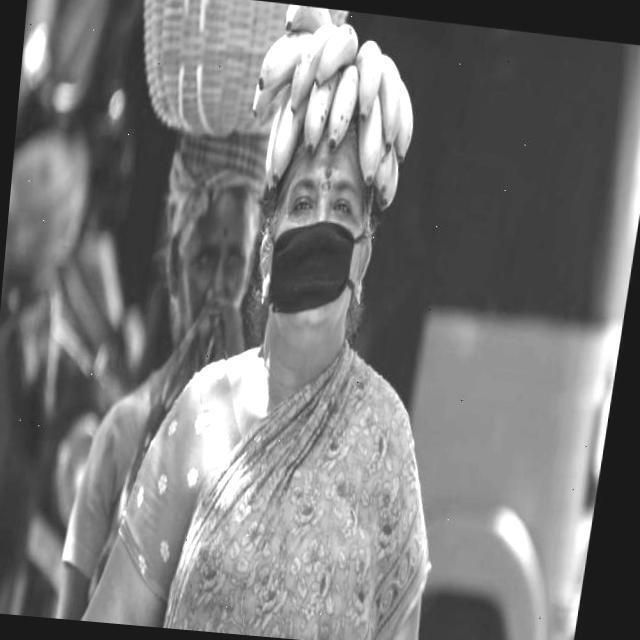mask: (264, 222, 360, 312)
no_gloves: (253, 4, 442, 170)
